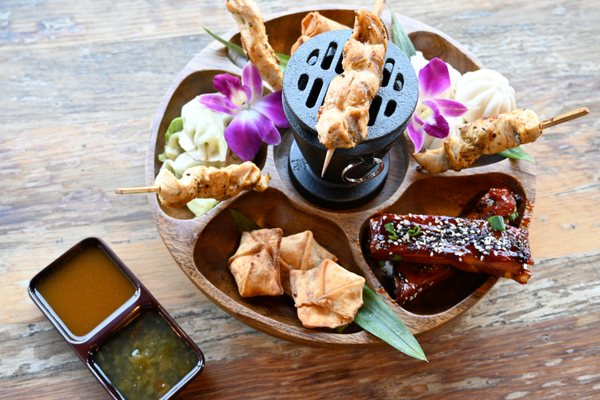curry: (17, 0, 588, 394)
